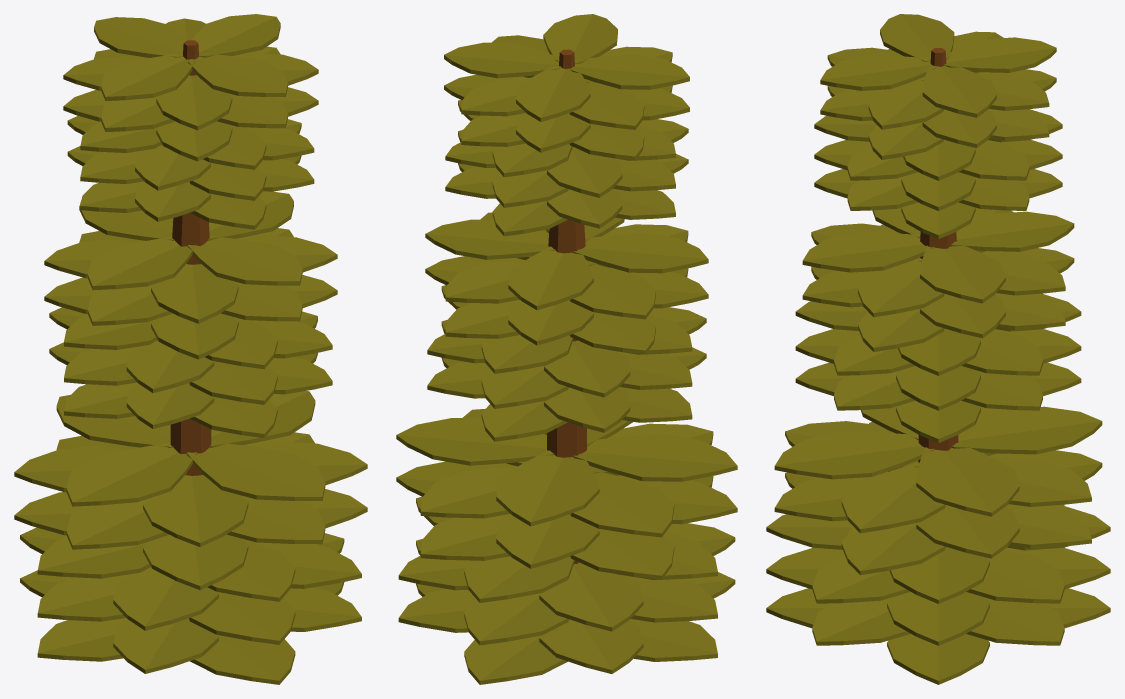
The model's file is Tree_21.fbx.
The picture shows the model from 3 angles, left to right: view 1: azimuth 30°, elevation 25°; view 2: azimuth 150°, elevation 25°; view 3: azimuth 270°, elevation 25°; orthographic projection. The views are drawn at different scales.
Visible parts, largest first — view 1: Tree_21; view 2: Tree_21; view 3: Tree_21.
Part boxes in pixels (x1,y1,x2,y2): Tree_21: (14, 14, 367, 684); Tree_21: (396, 14, 737, 684); Tree_21: (766, 14, 1110, 684).
Bounding box in the file's own units: 903 × 1679 × 903.
